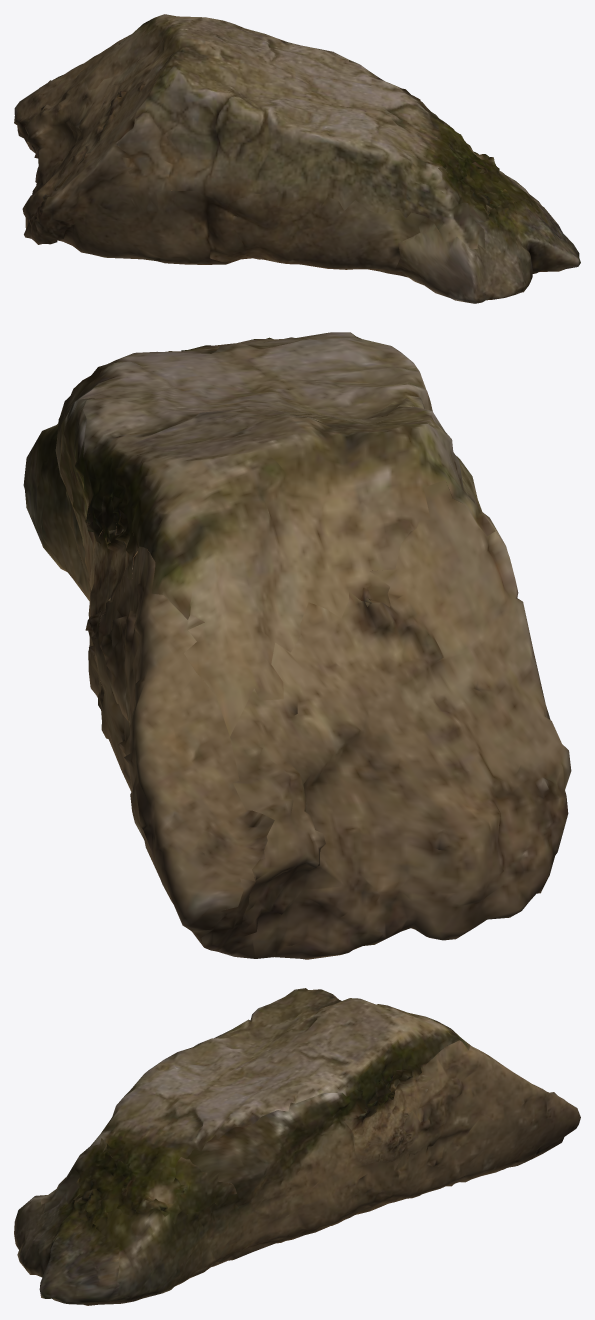
File: moss_rock_2.glb
3 renders of one model, top to bottom at view 1: azimuth 30°, elevation 25°; view 2: azimuth 150°, elevation 25°; view 3: azimuth 270°, elevation 25°, orthographic. The views are drawn at different scales.
Parts seen in each view (by area): view 1: moss_rock_2; view 2: moss_rock_2; view 3: moss_rock_2.
Boxes of the visible parts, <box> form: moss_rock_2: <box>14,14,580,303</box>; moss_rock_2: <box>23,332,571,959</box>; moss_rock_2: <box>14,988,580,1305</box>.
Bounding box in the file's own units: 0.8136 × 0.3872 × 1.
1 material, 1 textured.
